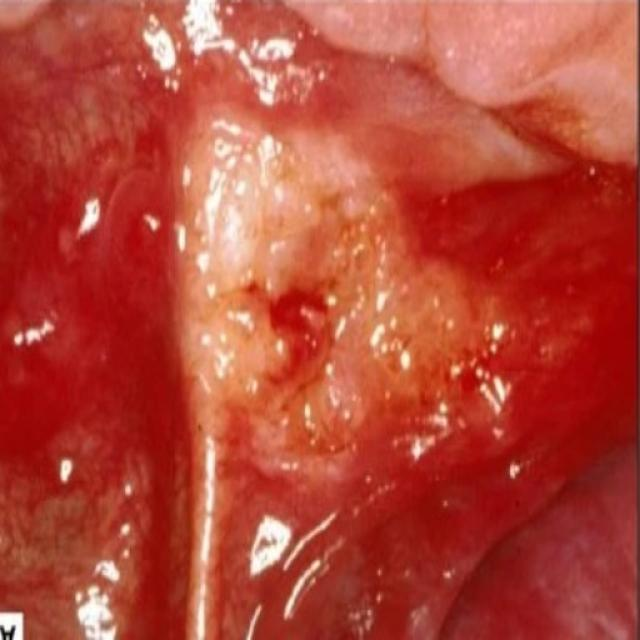cancer-detection: (164, 101, 539, 637)
processing_area: (6, 1, 637, 639)
